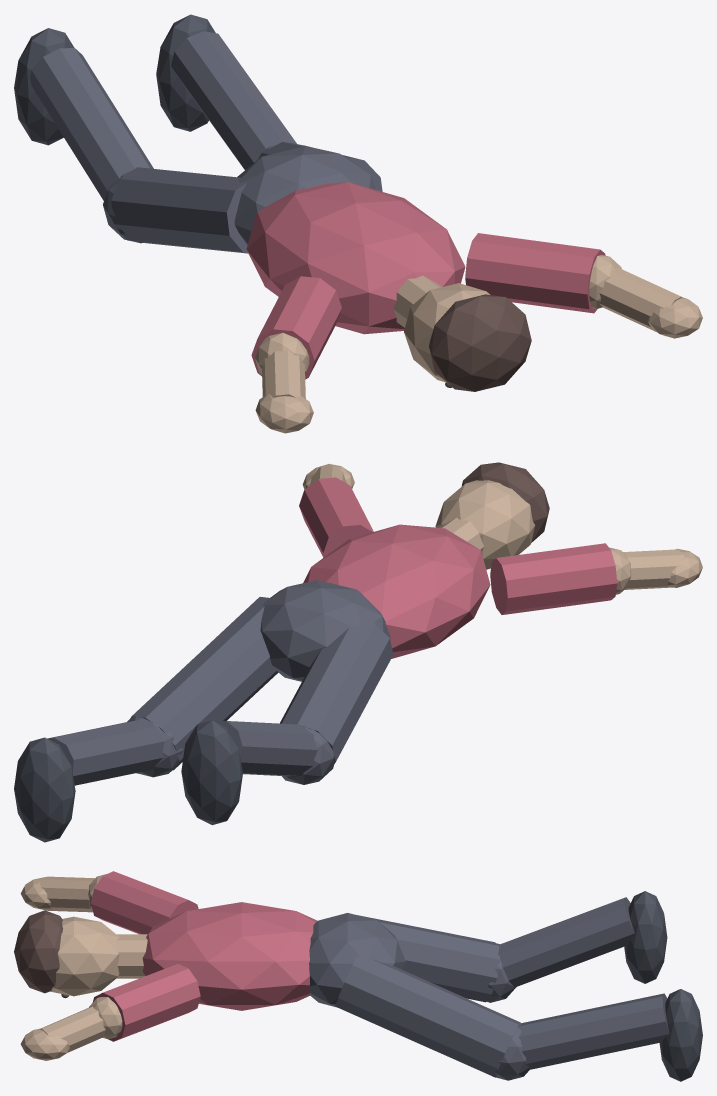
The picture shows the model from 3 angles, top to bottom: view 1: azimuth 30°, elevation 25°; view 2: azimuth 150°, elevation 25°; view 3: azimuth 270°, elevation 25°; orthographic projection. The views are drawn at different scales.
Visible parts, largest first — view 1: world; view 2: world; view 3: world.
Boxes of the visible parts, x1,y1,x2,y2 form: world: (14, 14, 702, 433); world: (14, 462, 702, 842); world: (14, 871, 702, 1081).
Size of the model in its own units: 1.17 by 0.4125 by 2.01.
